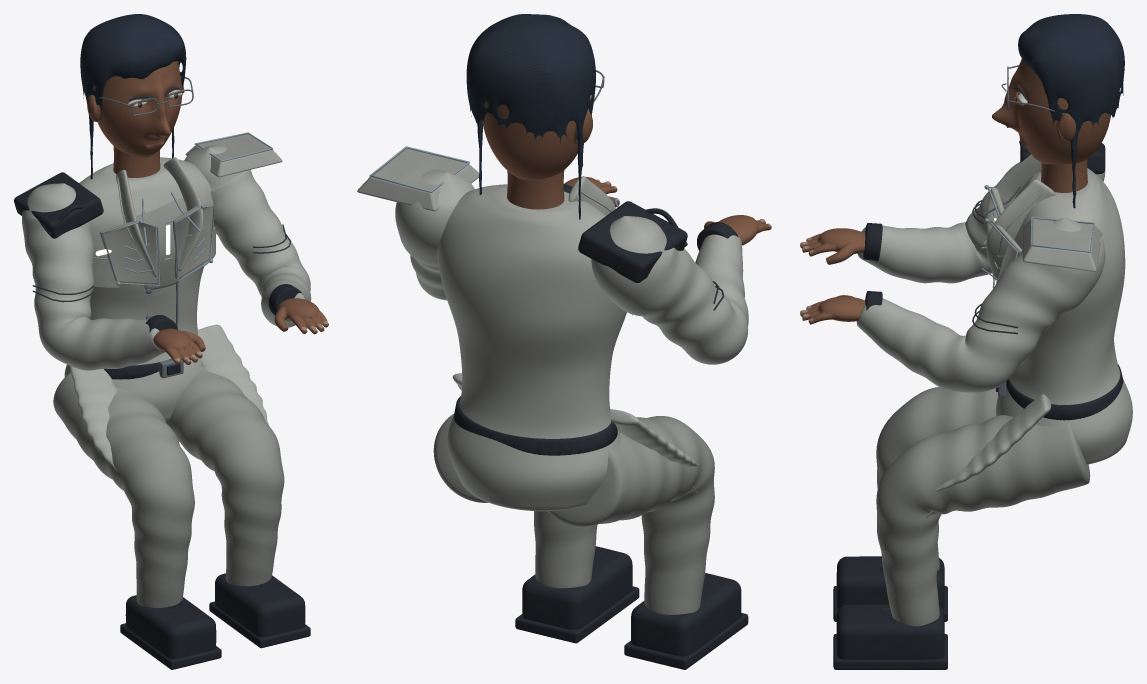
Rendered from envoy.gltf.
The picture shows the model from 3 angles, left to right: view 1: azimuth 30°, elevation 25°; view 2: azimuth 150°, elevation 25°; view 3: azimuth 270°, elevation 25°; orthographic projection. The views are drawn at different scales.
Visible parts, largest first — view 1: council-asset-9-envoy_Fabric, council-asset-9-envoy_Leather, Oni Metal tailoring, sculpted-head_Hair, sculpted-head_Skin, council-asset-9-envoy_Skin; view 2: council-asset-9-envoy_Fabric, council-asset-9-envoy_Leather, sculpted-head_Hair, sculpted-head_Skin, Oni Metal tailoring, council-asset-9-envoy_Skin; view 3: council-asset-9-envoy_Fabric, council-asset-9-envoy_Leather, sculpted-head_Hair, sculpted-head_Skin, Oni Metal tailoring, council-asset-9-envoy_Skin.
Part boxes in pixels (x1,y1,x2,y2): council-asset-9-envoy_Fabric: (22,144,311,607); council-asset-9-envoy_Leather: (14,172,310,669); Oni Metal tailoring: (99,132,282,286); sculpted-head_Hair: (80,14,186,179); sculpted-head_Skin: (87,61,183,157); council-asset-9-envoy_Skin: (113,146,328,364); council-asset-9-envoy_Fabric: (395,169,748,615); council-asset-9-envoy_Leather: (453,184,748,669); sculpted-head_Hair: (466,14,595,219); sculpted-head_Skin: (482,97,592,180); Oni Metal tailoring: (357,146,618,211); council-asset-9-envoy_Skin: (507,170,771,245); council-asset-9-envoy_Fabric: (856,154,1132,626); council-asset-9-envoy_Leather: (833,141,1123,669); sculpted-head_Hair: (1018,14,1124,208); sculpted-head_Skin: (992,59,1110,164); Oni Metal tailoring: (981,185,1102,287); council-asset-9-envoy_Skin: (800,159,1087,324).
Size of what is drawn, in the model's own units: 1.02 by 2.06 by 1.02.
Materials: 7 (5 with a texture image).
